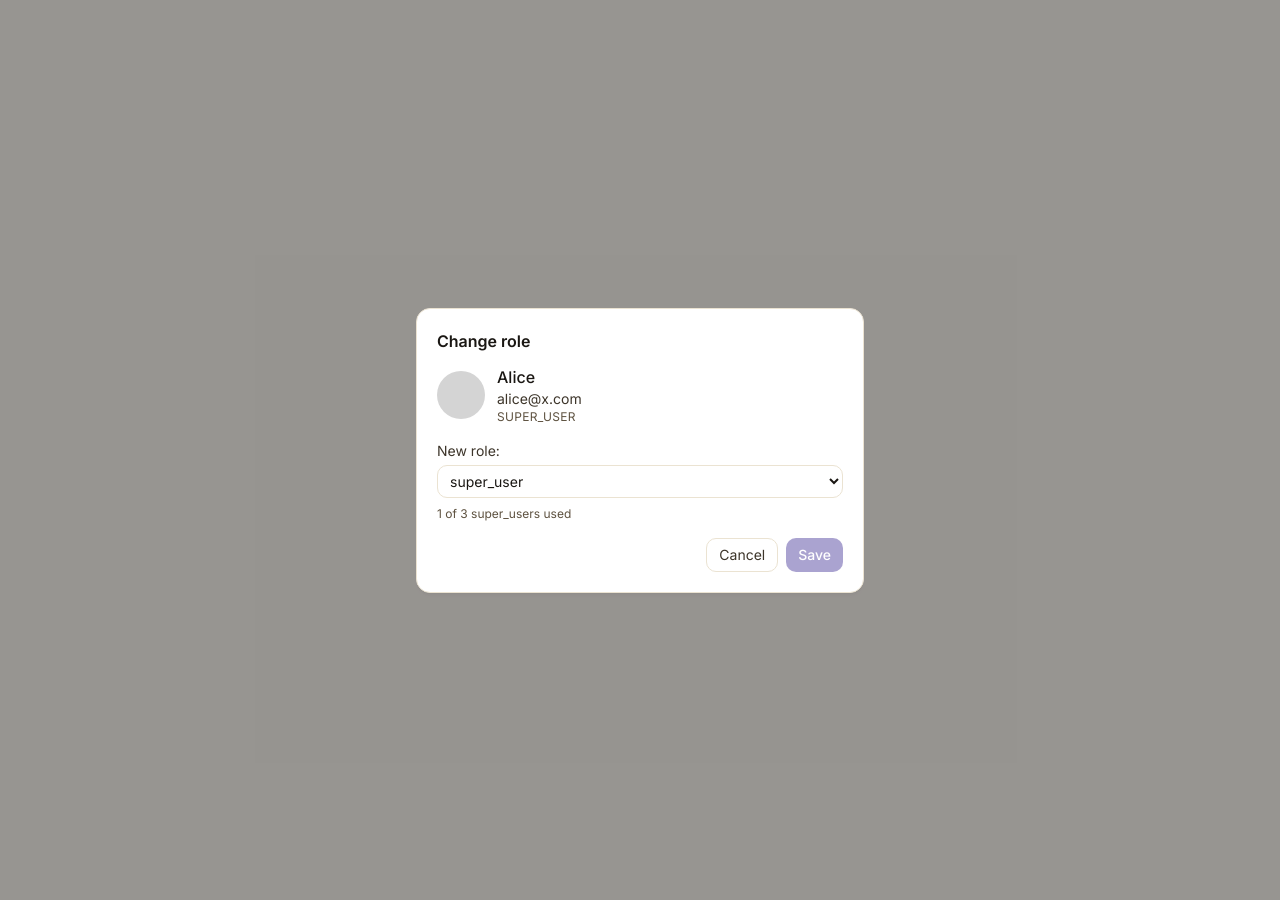
Test case: ChangeMemberRoleDialog › Save disabled when demoting the last super_user
Select "moderator" in the dropdown: {"x": 640, "y": 481} 437,464 -> 843,498
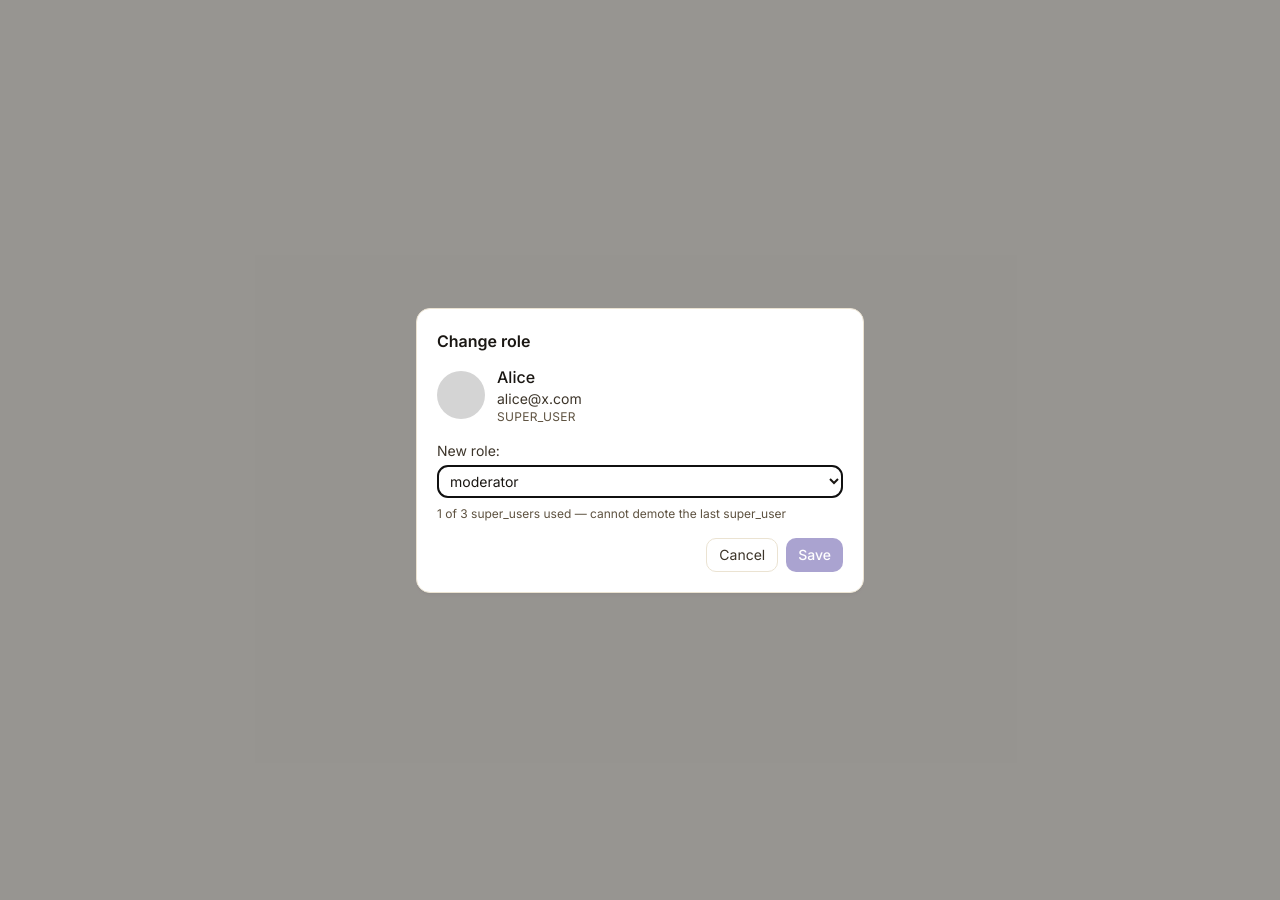
Expected: the button "Save" is disabled, 786,538 -> 843,572
Now the text "1 of 3 super_users used — cannot demote the last super_user" is shown, box 437,506 -> 843,522
